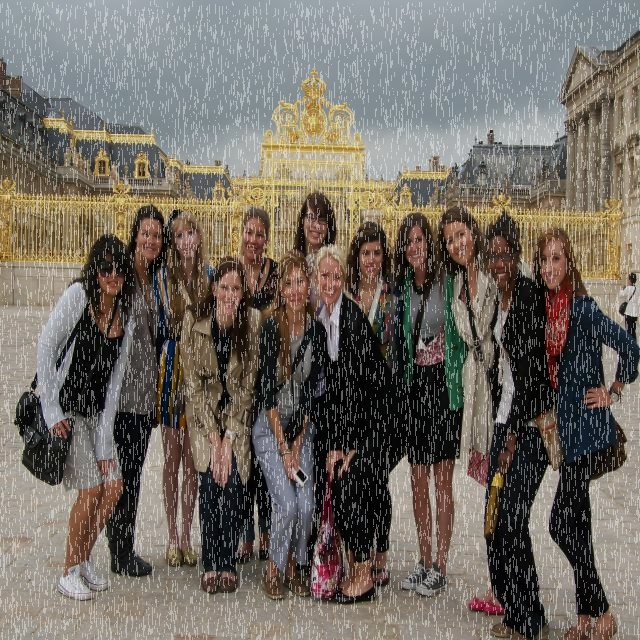pessoa: (528, 220, 639, 639), (306, 237, 418, 608), (33, 230, 138, 600), (476, 205, 558, 640), (390, 212, 470, 598), (178, 252, 266, 598), (246, 247, 332, 601), (437, 203, 505, 616), (104, 201, 170, 580), (153, 209, 214, 568), (343, 220, 401, 590), (233, 204, 284, 566), (289, 188, 352, 416), (618, 272, 640, 344), (164, 206, 184, 248)
